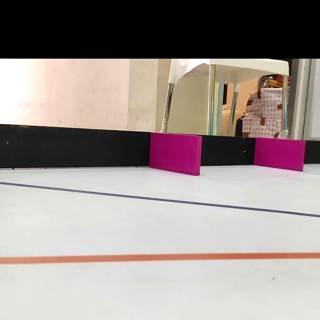xparking: (152, 136, 199, 172), (258, 138, 302, 166)
